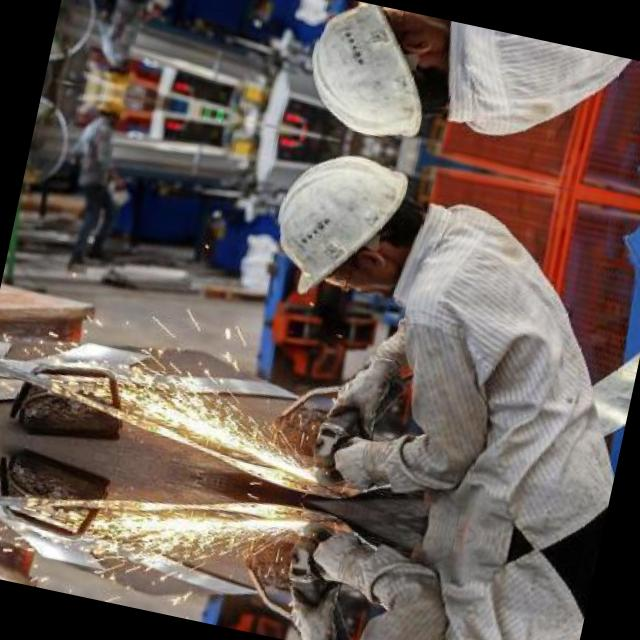helmet: (249, 138, 434, 314), (282, 0, 466, 152)
